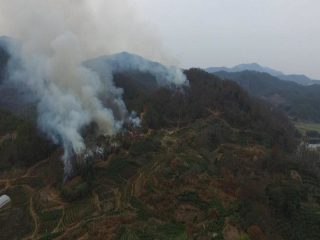smoke: (9, 14, 191, 176)
